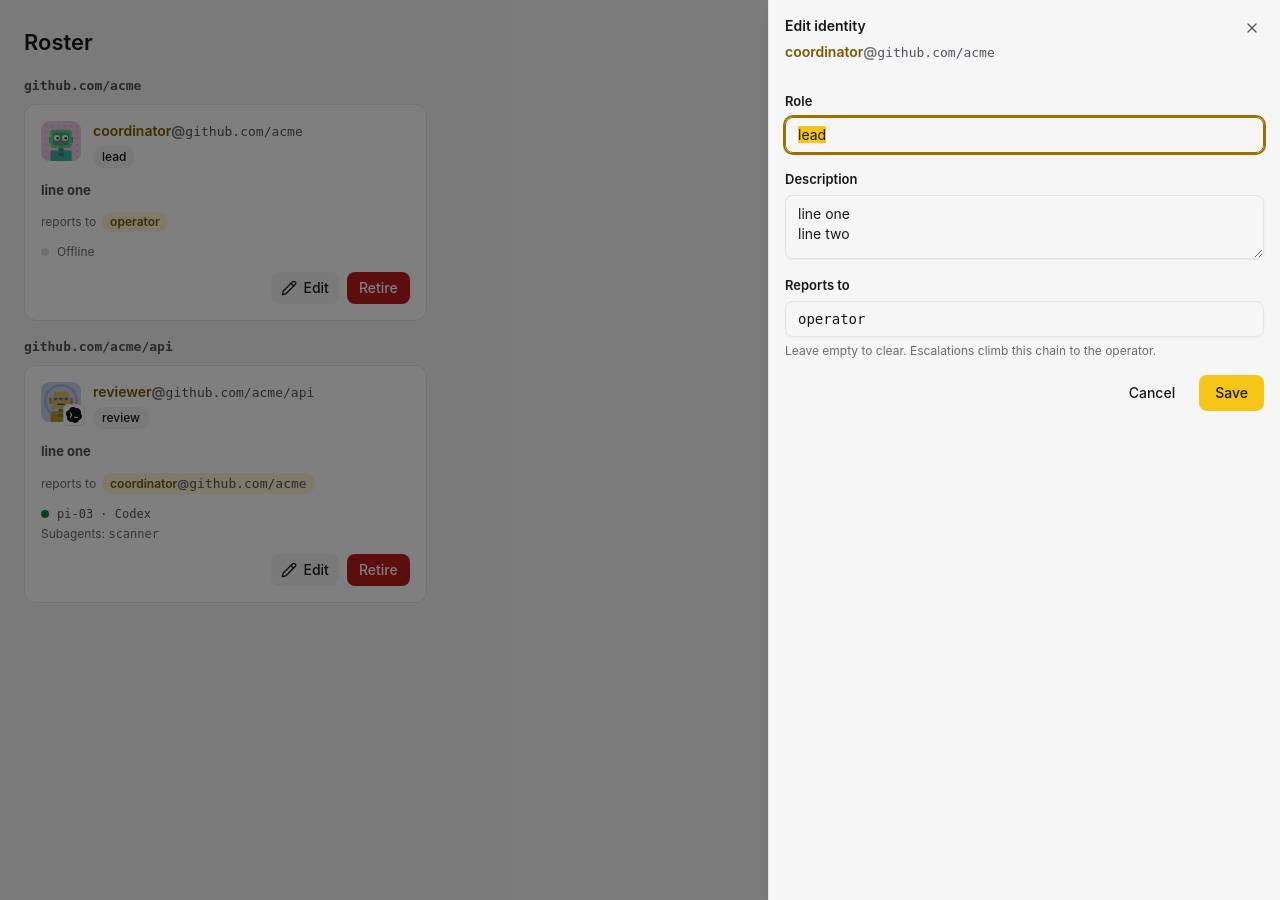
it: RosterGrid › opens the sheet from the edit search param and shows cycle errors inline
The image size is (1280, 900).
Type "reviewer@github.com/acme/api" into the field labelled "Reports to". click: x=1024, y=319
box: [785,301,1264,337]
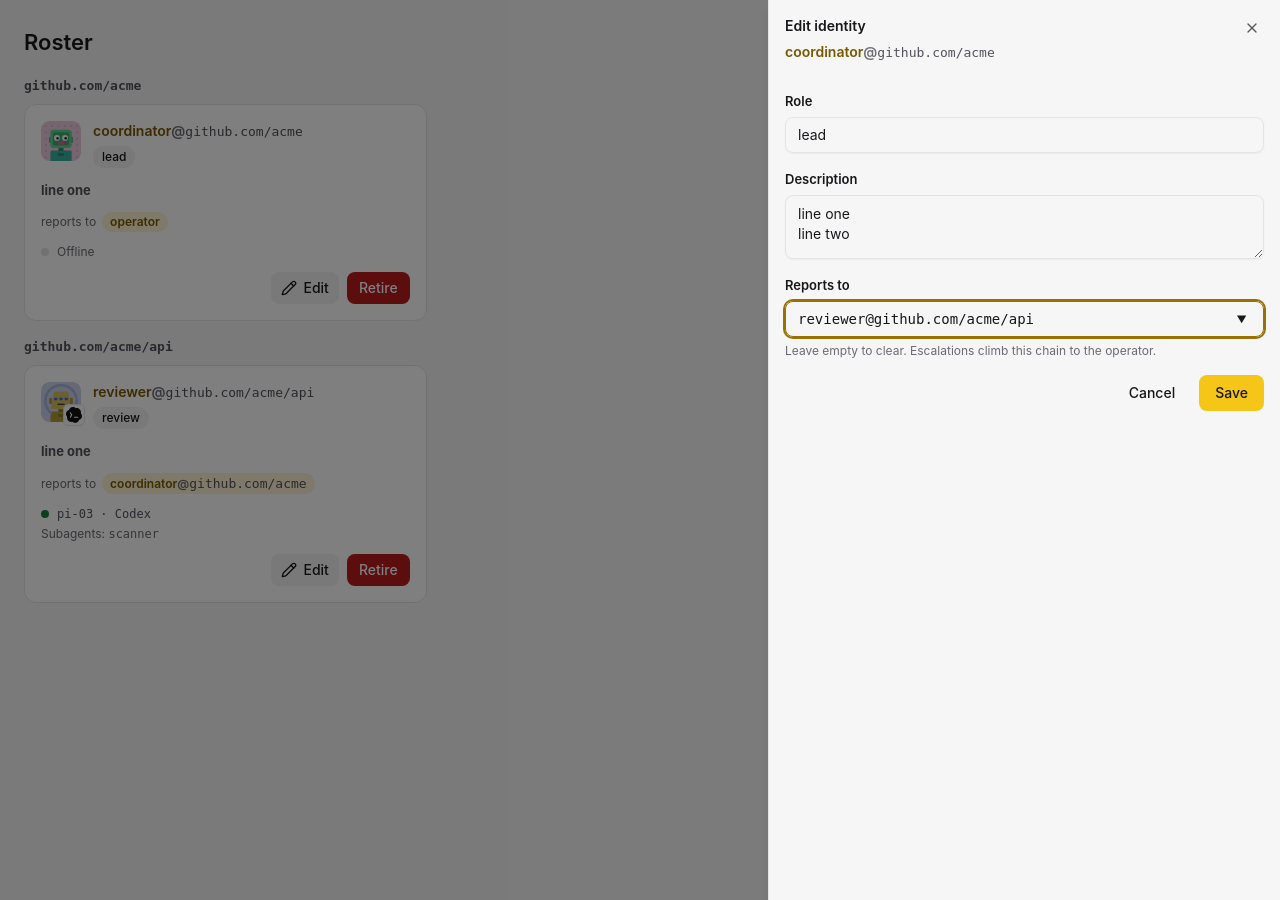
Click the button "Save". click: x=1232, y=393
box: [1199,375,1264,411]
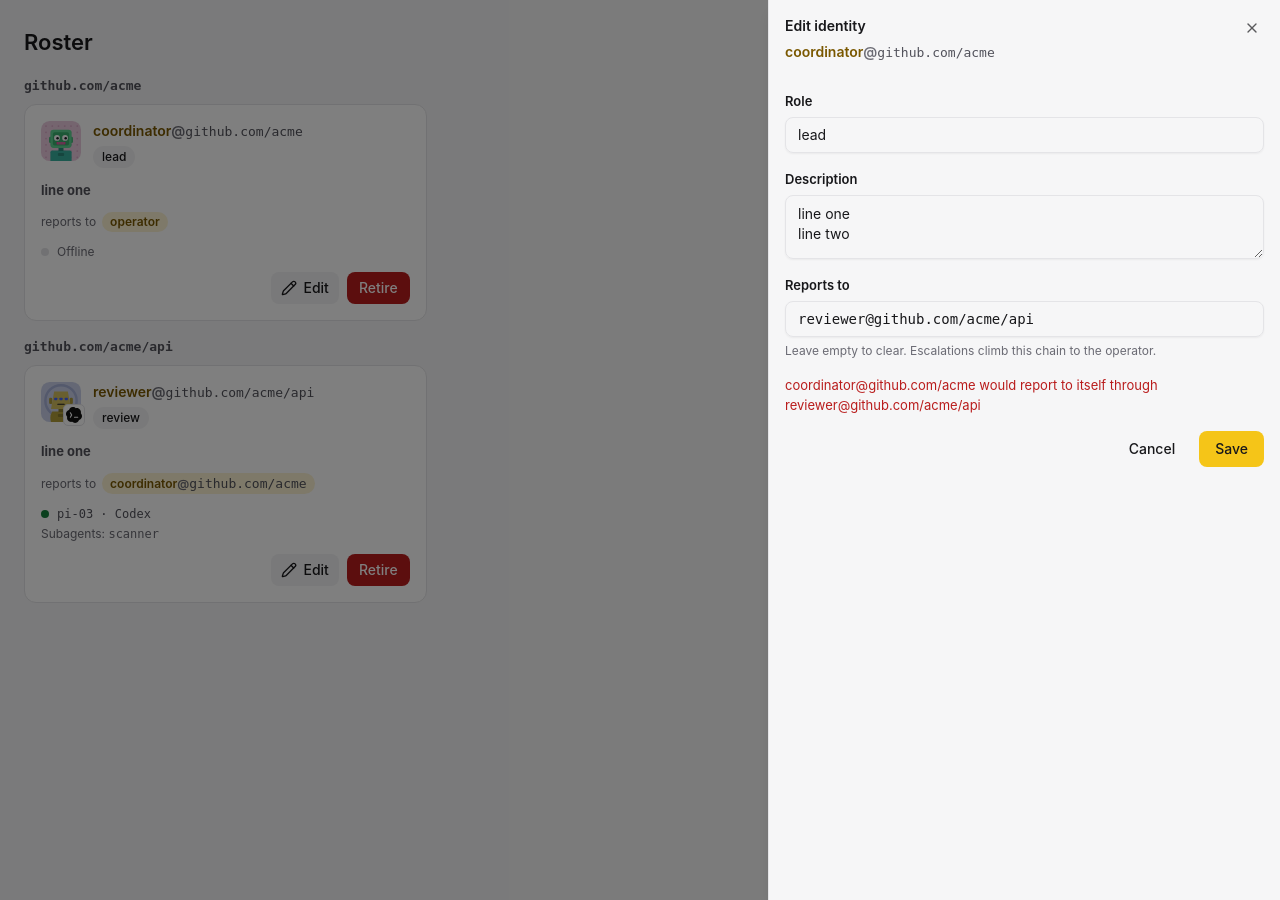
Expected: the field labelled "Role" is shown, [785,117,1264,153]
Expected: the message shows "report to itself", [785,377,1158,413]
